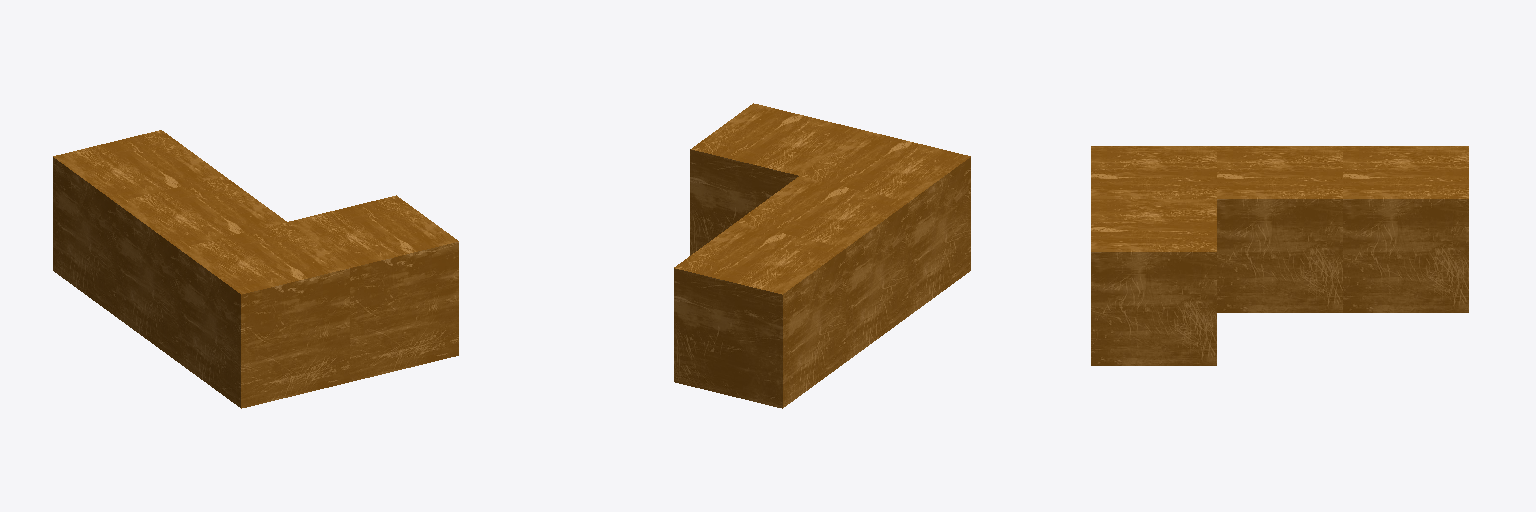
3 renders of one model, left to right at view 1: azimuth 30°, elevation 25°; view 2: azimuth 150°, elevation 25°; view 3: azimuth 270°, elevation 25°, orthographic.
Parts seen in each view (by area): view 1: Cube.001, Cube.002, Cube.004, Cube.003; view 2: Cube.004, Cube.001, Cube.003, Cube.002; view 3: Cube.003, Cube.002, Cube.004, Cube.001.
Part boxes in pixels (left/top/right/bottom): Cube.001: left=178, top=222, right=349, bottom=408; Cube.002: left=288, top=195, right=458, bottom=381; Cube.004: left=53, top=130, right=223, bottom=316; Cube.003: left=116, top=176, right=286, bottom=361; Cube.004: left=674, top=222, right=845, bottom=408; Cube.001: left=800, top=130, right=970, bottom=316; Cube.003: left=737, top=176, right=907, bottom=361; Cube.002: left=690, top=103, right=861, bottom=255; Cube.003: left=1217, top=146, right=1342, bottom=312; Cube.002: left=1091, top=199, right=1216, bottom=365; Cube.004: left=1343, top=146, right=1468, bottom=312; Cube.001: left=1091, top=146, right=1216, bottom=198.
Bounding box in the file's own units: 4 × 2 × 6.
Materials: 1 (1 with a texture image).